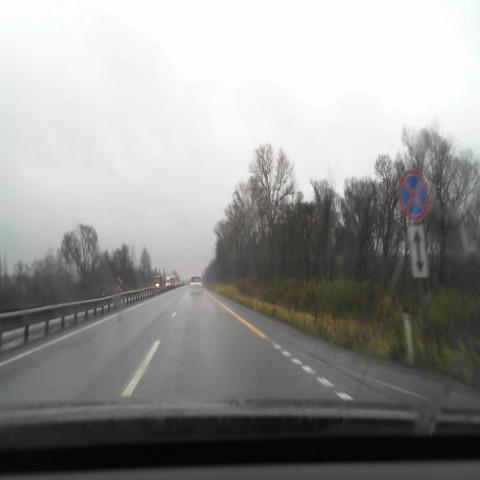8_2_4: (408, 225, 428, 278)
